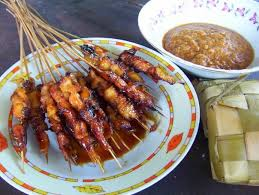sate: (1, 29, 207, 178)
